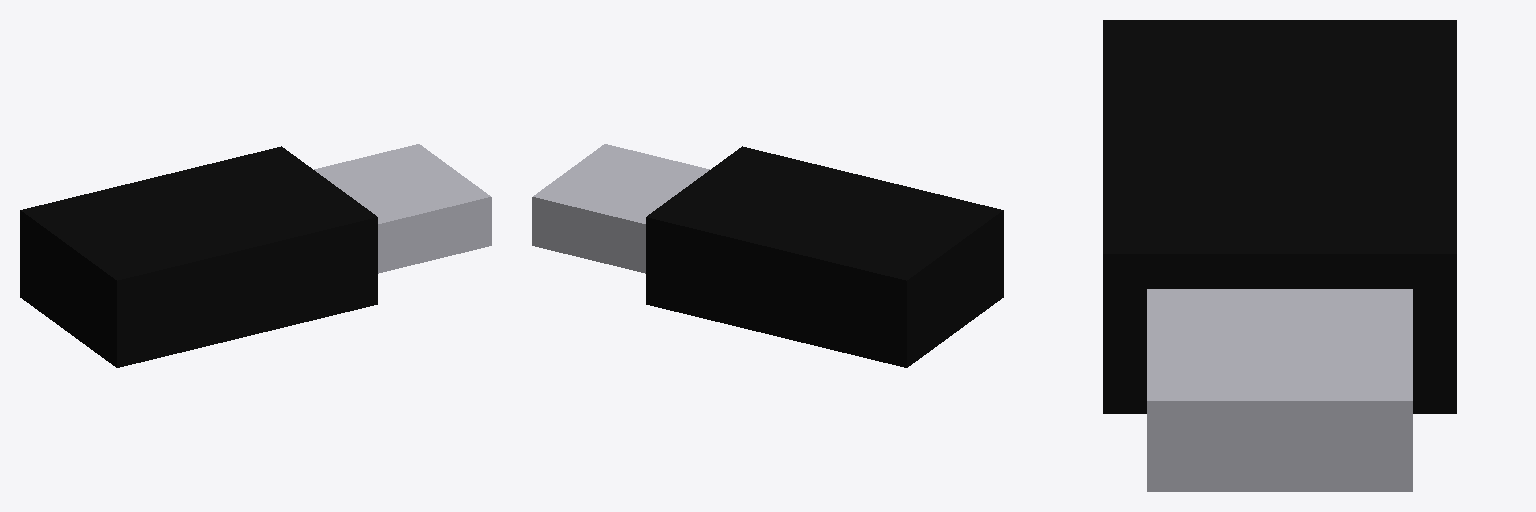
The robot description file, URDF, robot "usb_plug":
<?xml version="1.0"?>
<!-- USB-A plug: plastic housing (gripped) + metal tip (inserted). Tip points +x.
     Real USB-A: tip 12.0 x 4.5 mm, ~12 mm long; housing ~16 x 8 mm. Link origin = housing centre. -->
<robot name="usb_plug">
  <link name="plug">
    <inertial>
      <origin xyz="0.003 0 0"/>
      <mass value="0.012"/>
      <inertia ixx="4e-7" ixy="0" ixz="0" iyy="1e-6" iyz="0" izz="1.2e-6"/>
    </inertial>
    <visual name="housing">
      <geometry><box size="0.025 0.016 0.008"/></geometry>
      <material name="black"><color rgba="0.08 0.08 0.08 1"/></material>
    </visual>
    <collision name="housing">
      <geometry><box size="0.025 0.016 0.008"/></geometry>
    </collision>
    <visual name="tip">
      <origin xyz="0.0185 0 0"/>
      <geometry><box size="0.012 0.012 0.0045"/></geometry>
      <material name="metal"><color rgba="0.75 0.75 0.78 1"/></material>
    </visual>
    <collision name="tip">
      <origin xyz="0.0185 0 0"/>
      <geometry><box size="0.012 0.012 0.0045"/></geometry>
    </collision>
  </link>
</robot>

--- Render facts (derived) ---
Views: 3 orthographic renders of the robot side by side, from view 1: azimuth 30°, elevation 25°; view 2: azimuth 150°, elevation 25°; view 3: azimuth 270°, elevation 25°.
Model usb_plug with 1 links and 0 joints (none), rooted at plug, posed every joint at zero.
Visible links, largest first — view 1: plug; view 2: plug; view 3: plug.
Link boxes in pixels (box(x1,y1,x2,y2)): plug: box(20, 144, 491, 367); plug: box(532, 144, 1003, 367); plug: box(1103, 20, 1456, 491).
Size in the robot's own frame: 0.037 by 0.016 by 0.008 metres.
Geometry: primitives only (box / cylinder / sphere), no mesh files.
